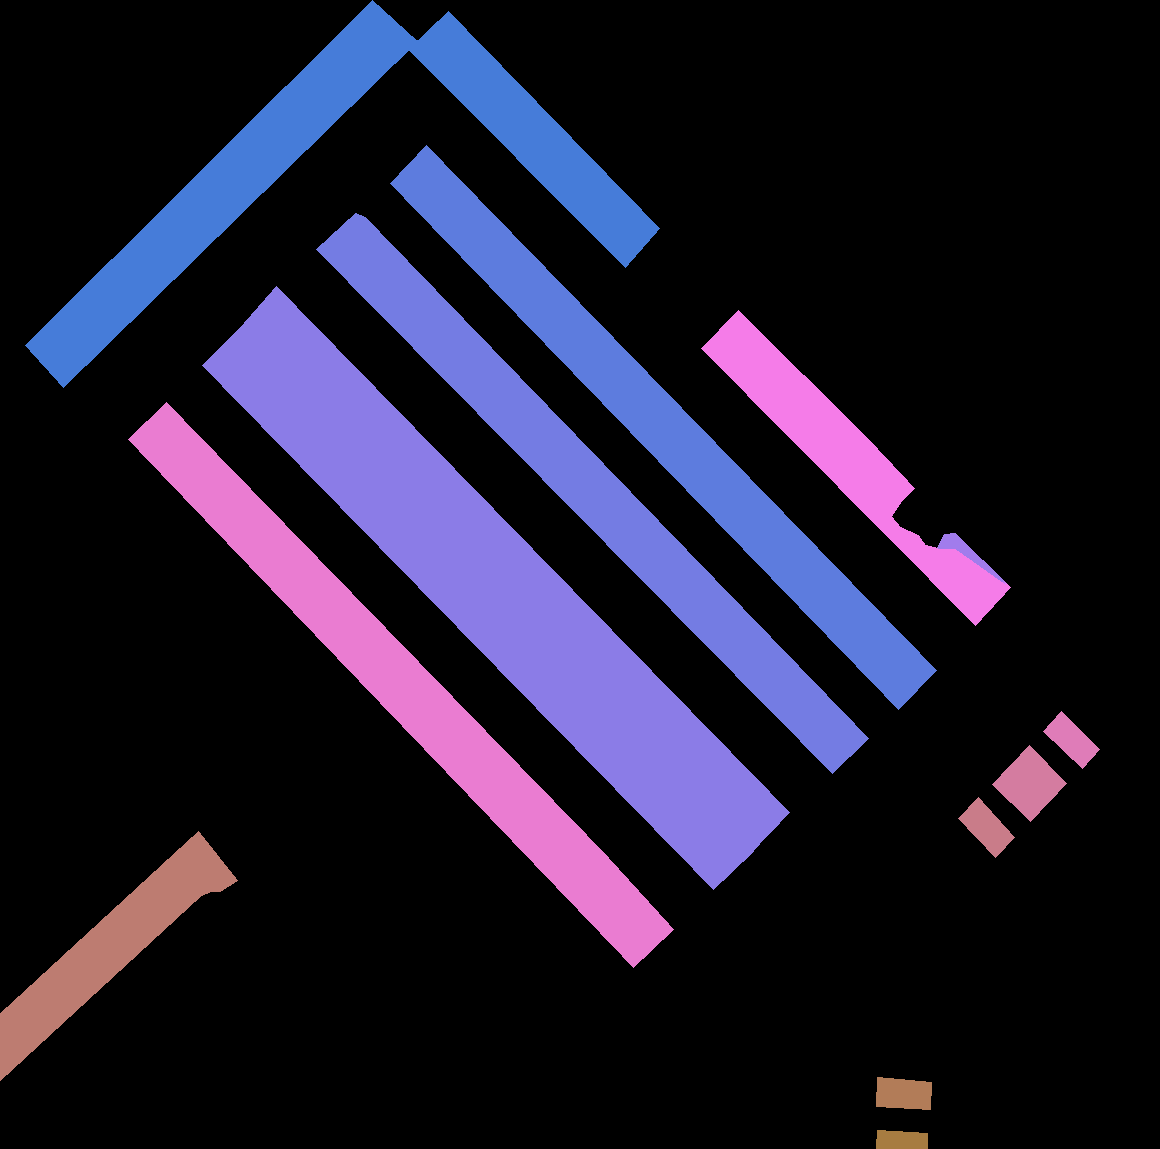parkingspot: (241, 286, 789, 854), (202, 324, 753, 889), (316, 213, 868, 773), (389, 145, 936, 709), (128, 402, 673, 967), (25, 0, 417, 387), (701, 310, 1011, 625), (408, 11, 659, 267), (0, 831, 237, 1080), (992, 745, 1066, 821), (958, 797, 1014, 856), (1043, 711, 1099, 768), (876, 1077, 931, 1109), (876, 1130, 927, 1149)
